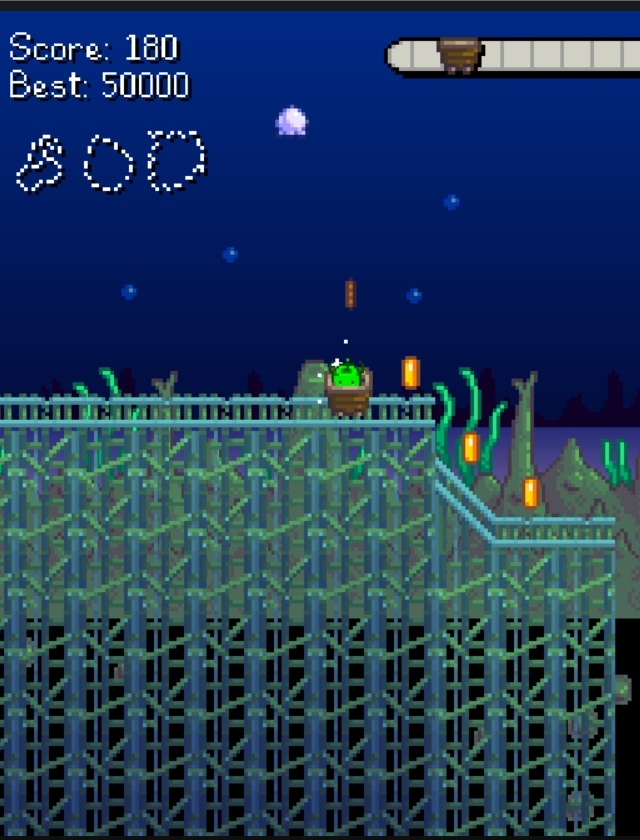coins: (522, 476, 540, 508), (402, 356, 419, 389), (462, 431, 479, 463)
minecart: (324, 359, 371, 416)
tracks: (418, 454, 627, 557), (0, 388, 306, 431)
